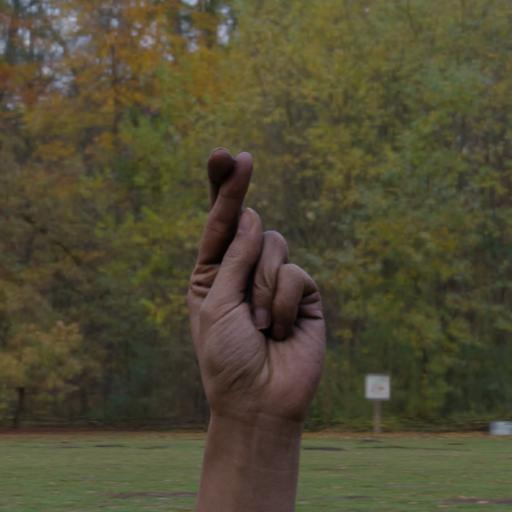R: (174, 142, 338, 434)
